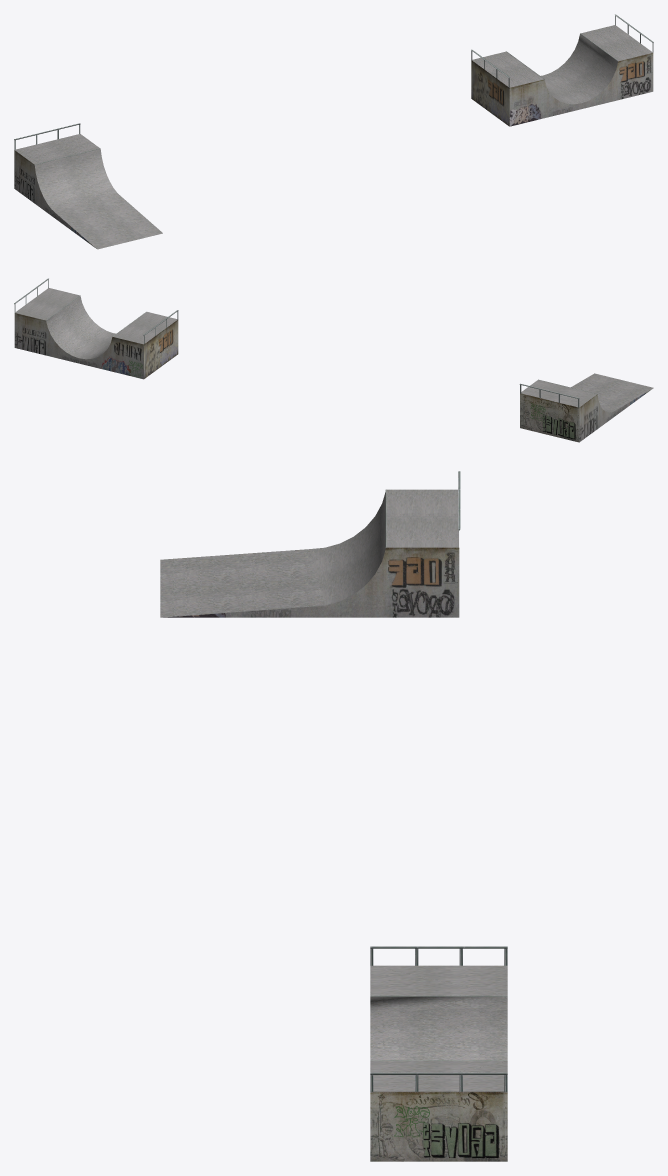
Rendered from laeskatetube1.obj.
The picture shows the model from 3 angles, top to bottom: view 1: azimuth 30°, elevation 25°; view 2: azimuth 150°, elevation 25°; view 3: azimuth 270°, elevation 25°; orthographic projection. The views are drawn at different scales.
Visible parts, largest first — view 1: laeskatetube1; view 2: laeskatetube1; view 3: laeskatetube1.
Boxes of the visible parts, bbox=[...] form: laeskatetube1: bbox=[14, 14, 653, 249]; laeskatetube1: bbox=[14, 278, 653, 442]; laeskatetube1: bbox=[160, 471, 507, 1161].
Size of the model in its own units: 92.58 by 12.07 by 25.16.
Materials: 13 (12 with a texture image).
